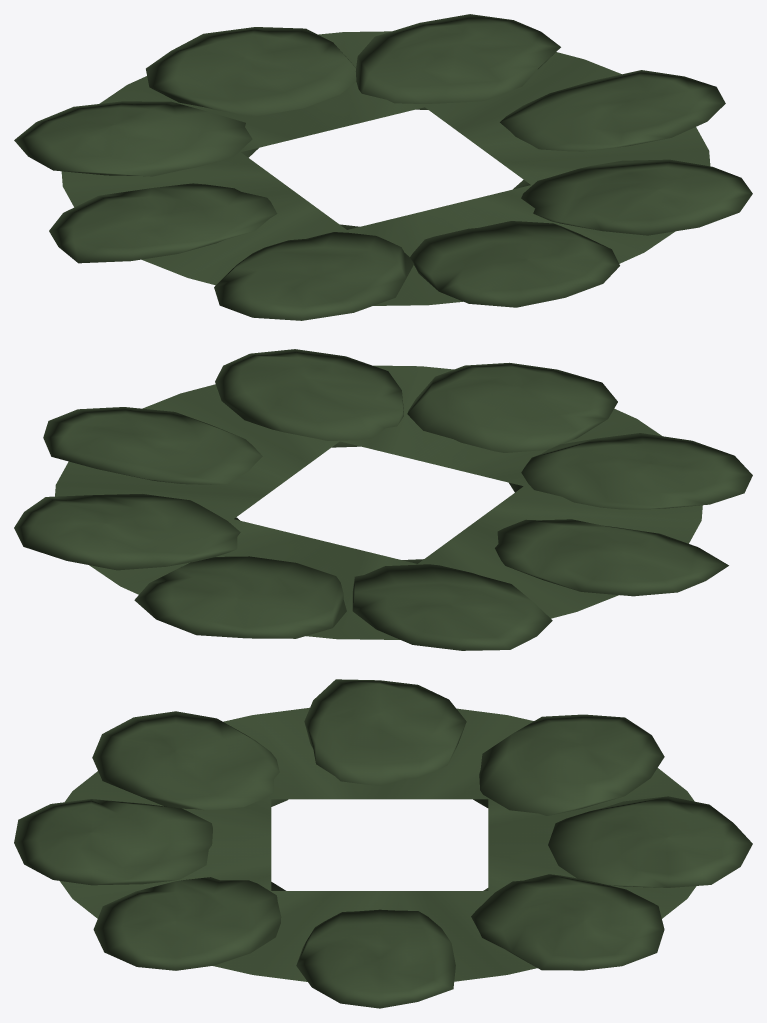
The model's file is horizon-ring.desktop.glb.
3 views of the same model, one above another, from view 1: azimuth 30°, elevation 25°; view 2: azimuth 150°, elevation 25°; view 3: azimuth 270°, elevation 25° (orthographic). The views are drawn at different scales.
Parts seen in each view (by area): view 1: SA_G09_MESH_00; view 2: SA_G09_MESH_00; view 3: SA_G09_MESH_00.
Part boxes in pixels (bbox=[...]): SA_G09_MESH_00: bbox=[14, 14, 752, 320]; SA_G09_MESH_00: bbox=[14, 349, 752, 650]; SA_G09_MESH_00: bbox=[14, 679, 752, 1008].
Bounding box in the file's own units: 631 × 11.77 × 599.
Materials: 1 (1 with a texture image).
